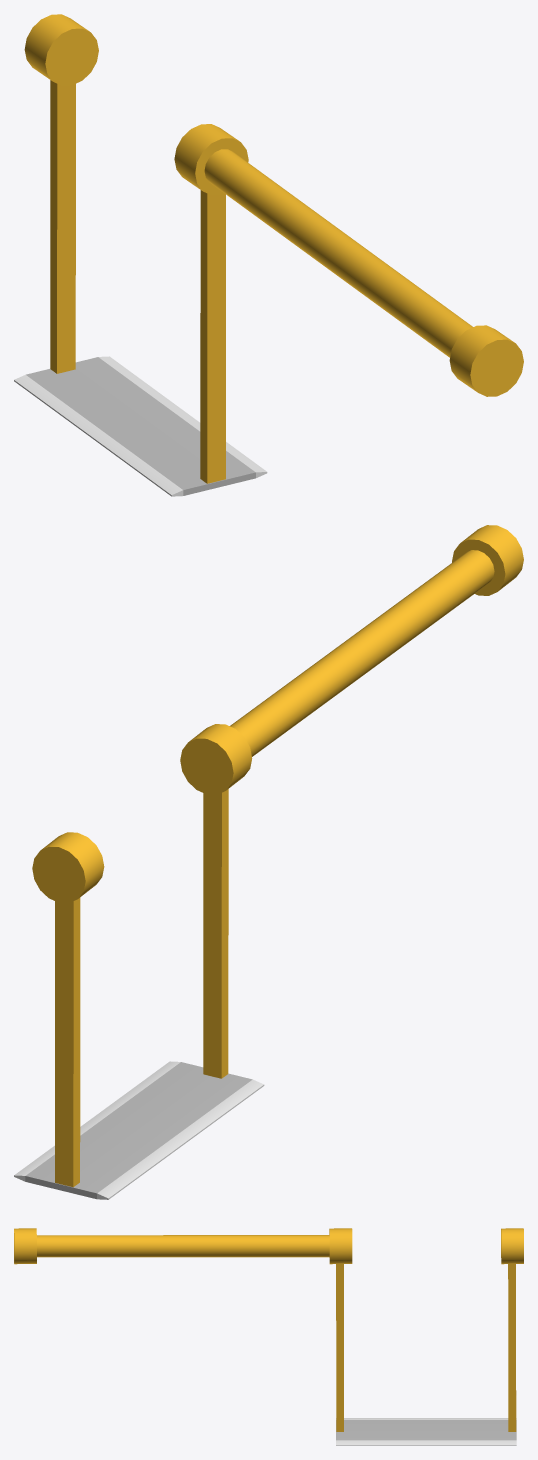
Rendered from trap_19.fbx.
3 renders of one model, top to bottom at view 1: azimuth 30°, elevation 25°; view 2: azimuth 150°, elevation 25°; view 3: azimuth 270°, elevation 25°, orthographic. The views are drawn at different scales.
Parts seen in each view (by area): view 1: rotate, base_02, base_01; view 2: rotate, base_02, base_01; view 3: base_02, rotate, base_01.
Boxes of the visible parts, x1,y1,x2,y2 form: rotate: [14, 80, 267, 496]; base_02: [174, 124, 523, 396]; base_01: [24, 14, 98, 85]; rotate: [14, 789, 264, 1199]; base_02: [180, 525, 523, 794]; base_01: [32, 832, 104, 903]; base_02: [14, 1228, 352, 1264]; rotate: [336, 1264, 516, 1445]; base_01: [501, 1228, 523, 1264].
Size of the model in its own units: 316 by 1115 by 2545.
1 material, 1 textured.
